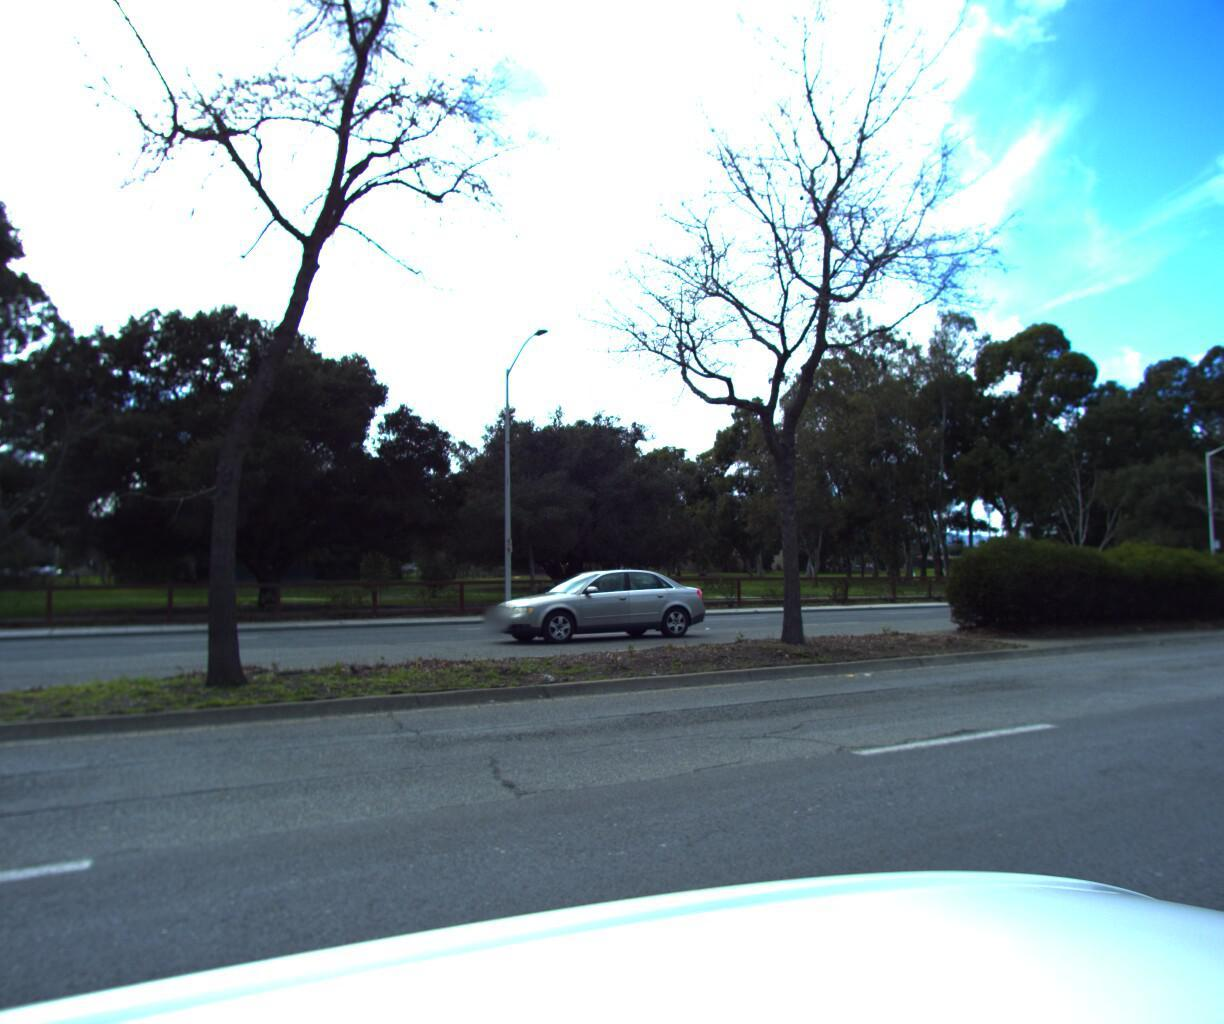car: (471, 573, 717, 654)
